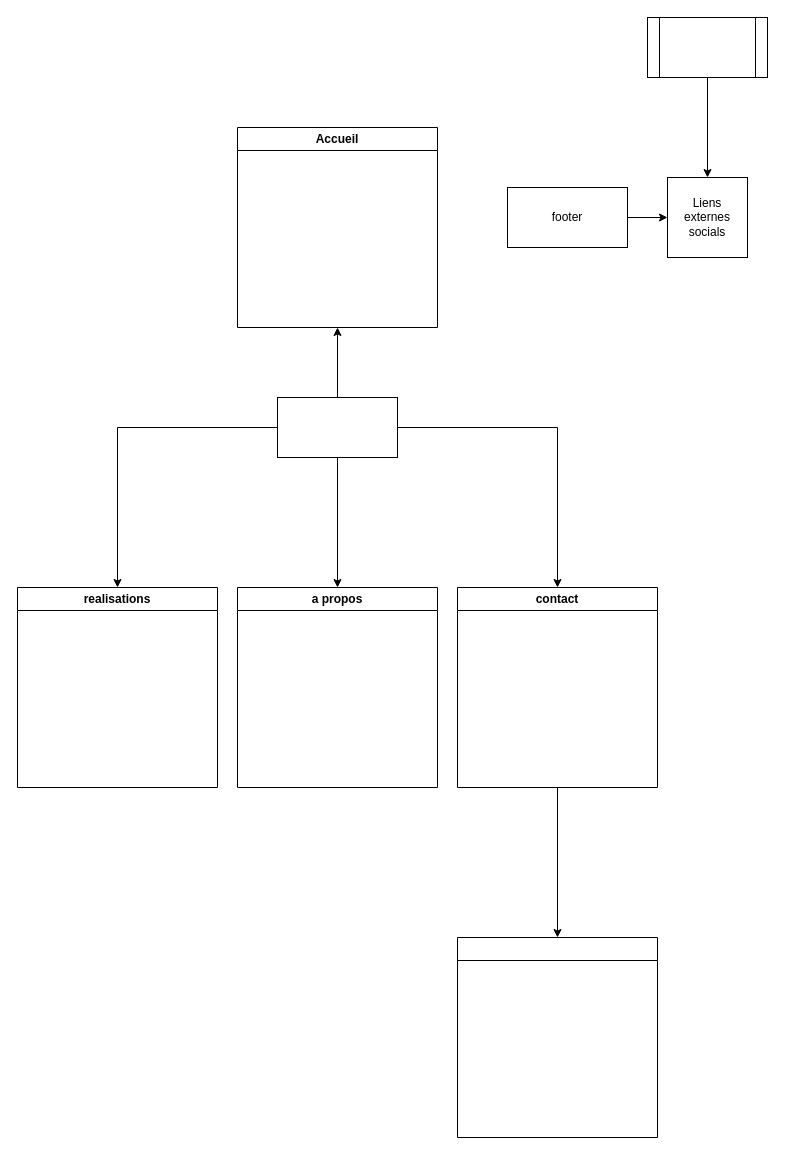
Image size: 785x1155. Some labels were removed from this diagram. The centre of each missing label's shape, as x and y in pixels:
nav: the point at 337,427
Sucess: the point at 557,1037
xml socials: the point at 707,47
